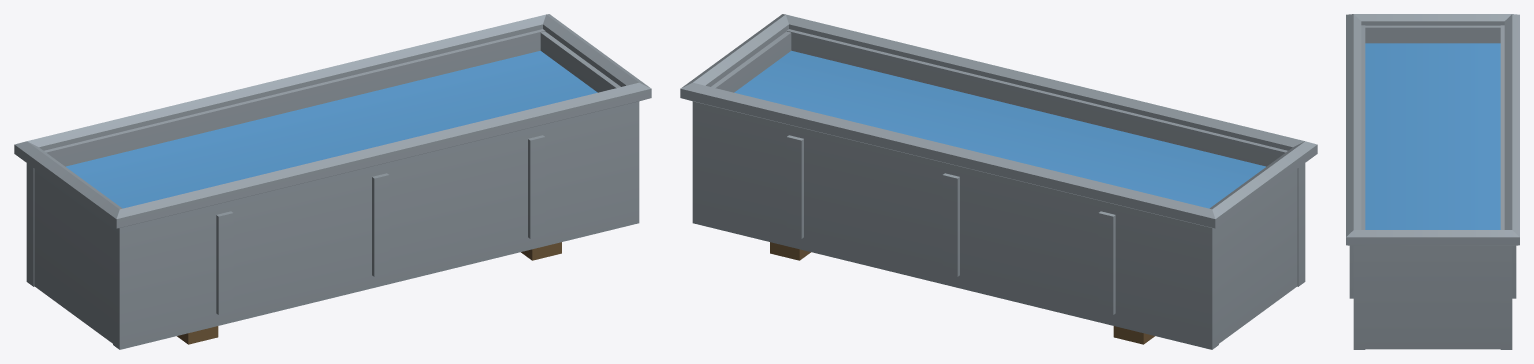
Rendered from SM_WaterTrough.glb.
3 views of the same model, side by side, from view 1: azimuth 30°, elevation 25°; view 2: azimuth 150°, elevation 25°; view 3: azimuth 270°, elevation 25° (orthographic). The views are drawn at different scales.
Visible parts, largest first — view 1: SM_WaterTrough; view 2: SM_WaterTrough; view 3: SM_WaterTrough.
Boxes of the visible parts, box(x1,y1,x2,y2) form: SM_WaterTrough: box(14, 14, 651, 349); SM_WaterTrough: box(680, 14, 1317, 349); SM_WaterTrough: box(1346, 14, 1519, 349).
Size of the model in its own units: 1.79 by 0.5 by 0.592.
Materials: 1 (1 with a texture image).
